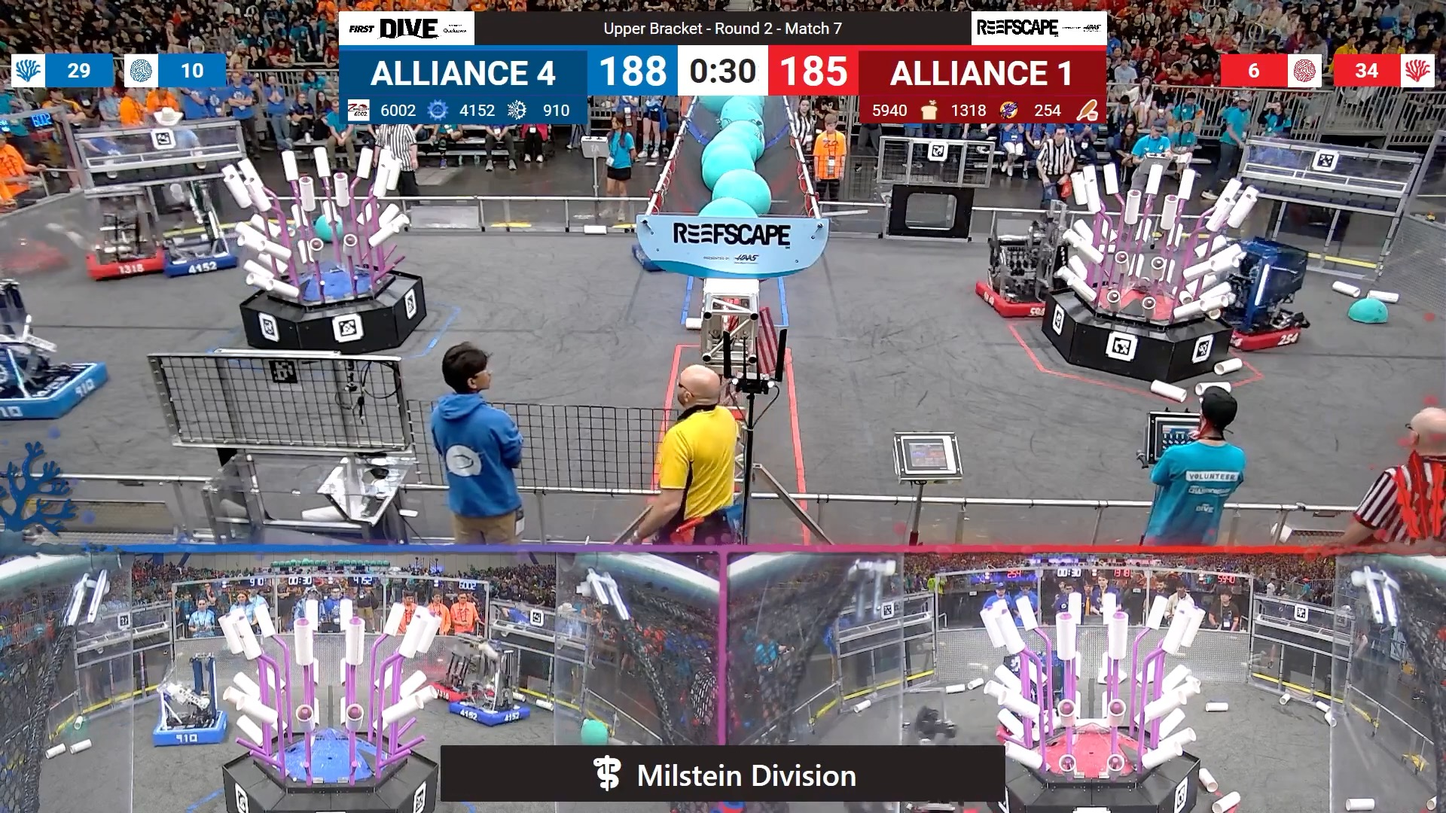bumpers: (0, 355, 112, 427), (1212, 309, 1311, 358), (971, 274, 1068, 324), (148, 702, 238, 752), (81, 237, 170, 287), (156, 238, 253, 283), (439, 695, 532, 731), (627, 244, 674, 275)
